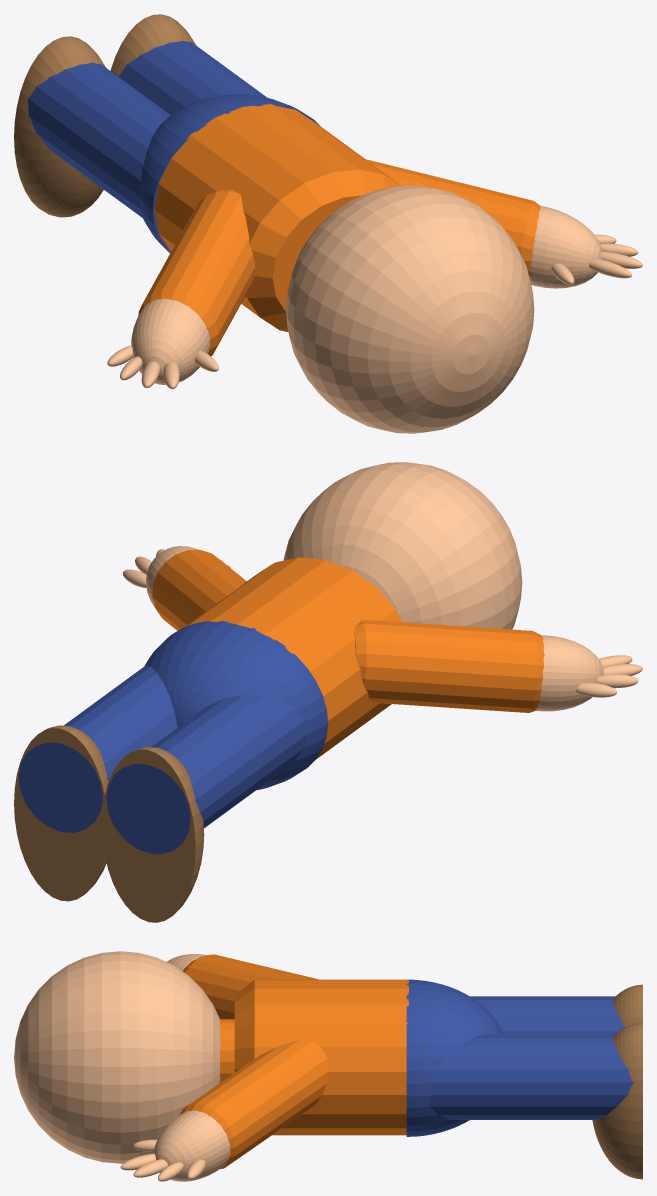
File: player.obj
3 renders of one model, top to bottom at view 1: azimuth 30°, elevation 25°; view 2: azimuth 150°, elevation 25°; view 3: azimuth 270°, elevation 25°, orthographic. The views are drawn at different scales.
Parts seen in each view (by area): view 1: group_0_16500122, group_0_16089887, group_0_3888547, group_0_11107152; view 2: group_0_3888547, group_0_16089887, group_0_16500122, group_0_11107152; view 3: group_0_16500122, group_0_16089887, group_0_3888547, group_0_11107152.
Boxes of the visible parts, x1,y1,x2,y2 form: group_0_16500122: (107, 185, 642, 433); group_0_16089887: (138, 104, 540, 356); group_0_3888547: (27, 40, 319, 253); group_0_11107152: (14, 14, 195, 217); group_0_3888547: (18, 621, 327, 854); group_0_16089887: (152, 549, 544, 759); group_0_16500122: (123, 462, 642, 711); group_0_11107152: (14, 725, 204, 922); group_0_16500122: (14, 951, 230, 1181); group_0_16089887: (179, 954, 409, 1169); group_0_3888547: (406, 979, 633, 1136); group_0_11107152: (592, 984, 642, 1179).
Size of the model in its own units: 46.46 by 19.66 by 57.
